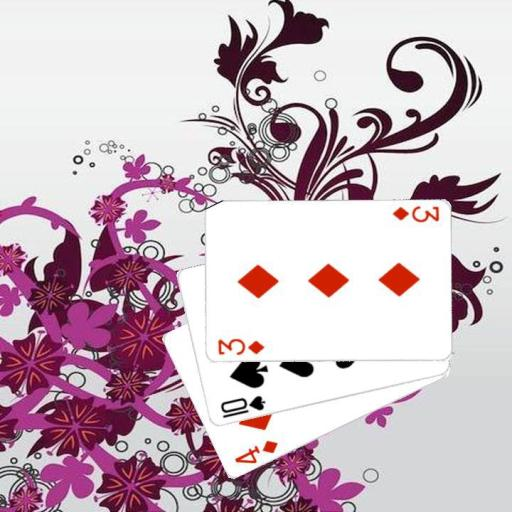10S: (217, 393, 267, 420)
3D: (388, 203, 440, 225), (215, 336, 266, 357)
4D: (231, 437, 280, 466)
